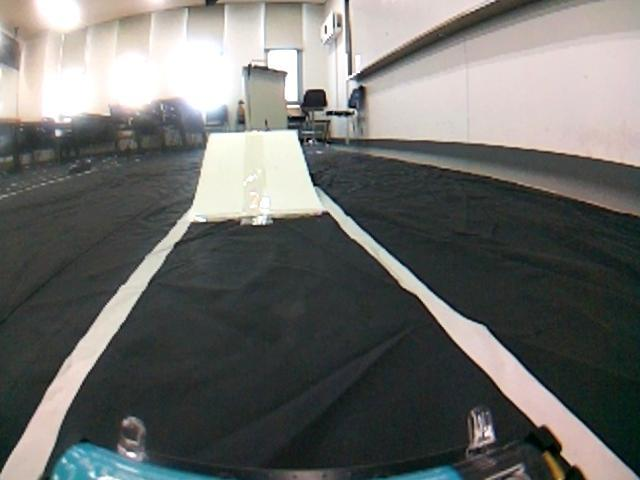hill_up: (188, 122, 336, 225)
straight: (3, 228, 640, 479)
